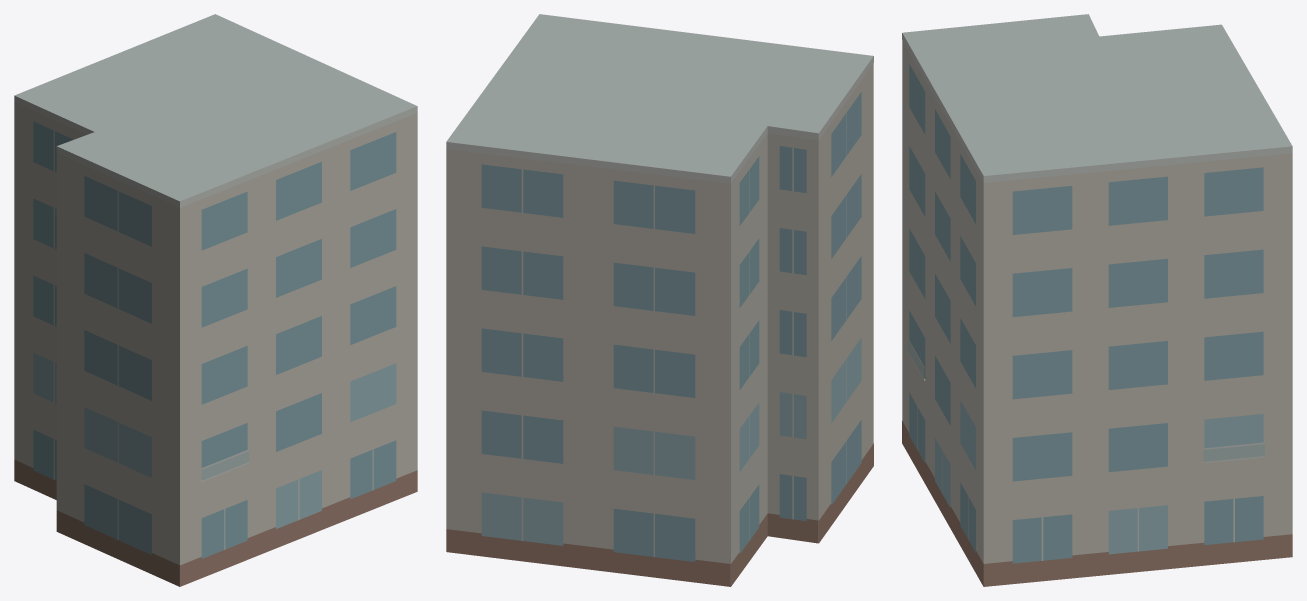
File: survey-upis-32587003.glb
3 renders of one model, left to right at view 1: azimuth 30°, elevation 25°; view 2: azimuth 150°, elevation 25°; view 3: azimuth 270°, elevation 25°, orthographic. The views are drawn at different scales.
Parts seen in each view (by area): view 1: survey-upis-32587003.tmp; view 2: survey-upis-32587003.tmp; view 3: survey-upis-32587003.tmp.
Boxes of the visible parts, bbox=[...] form: survey-upis-32587003.tmp: bbox=[14, 14, 417, 586]; survey-upis-32587003.tmp: bbox=[446, 14, 873, 586]; survey-upis-32587003.tmp: bbox=[902, 14, 1292, 586].
Size of the model in its own units: 12.2 by 14.4 by 12.42.
